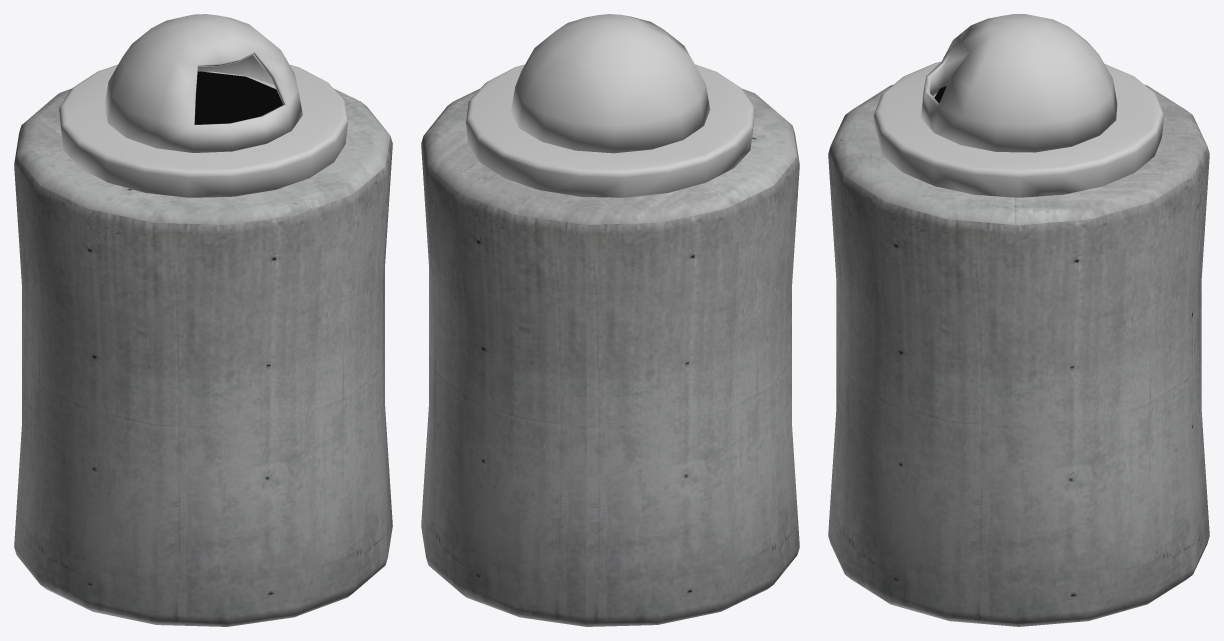
Rendered from outdoor_cement_trashcan_round.fbx.
3 renders of one model, left to right at view 1: azimuth 30°, elevation 25°; view 2: azimuth 150°, elevation 25°; view 3: azimuth 270°, elevation 25°, orthographic.
Parts seen in each view (by area): view 1: canCement_round_B, canShell, canRim, Cylinder01; view 2: canCement_round_B, canShell, canRim; view 3: canCement_round_B, canShell, canRim.
Part boxes in pixels (left/top/right/bottom): canCement_round_B: left=14, top=88, right=392, bottom=626; canShell: left=104, top=14, right=302, bottom=152; canRim: left=59, top=64, right=347, bottom=197; Cylinder01: left=194, top=71, right=282, bottom=124; canCement_round_B: left=421, top=88, right=799, bottom=626; canShell: left=510, top=14, right=710, bottom=153; canRim: left=466, top=64, right=754, bottom=197; canCement_round_B: left=828, top=84, right=1209, bottom=626; canShell: left=920, top=14, right=1117, bottom=152; canRim: left=873, top=62, right=1164, bottom=197.
Size of the model in its own units: 0.762 by 1.17 by 0.762.
